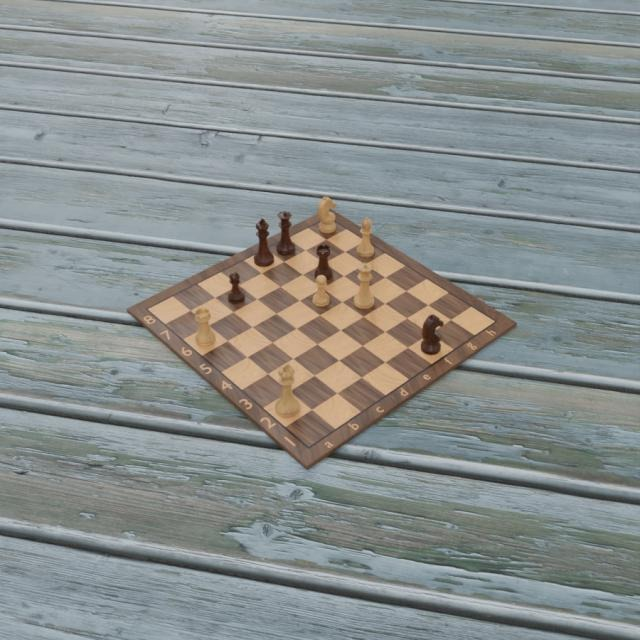black-king: (254, 217, 274, 267)
black-knight: (419, 312, 444, 356)
black-pawn: (227, 272, 245, 304)
black-queen: (276, 210, 296, 255)
black-rook: (314, 244, 334, 280)
white-bishop: (356, 217, 376, 259)
white-king: (273, 363, 301, 419)
white-knight: (316, 195, 337, 234)
white-pawn: (310, 273, 330, 307)
white-queen: (352, 262, 375, 310)
white-rook: (194, 305, 216, 346)
